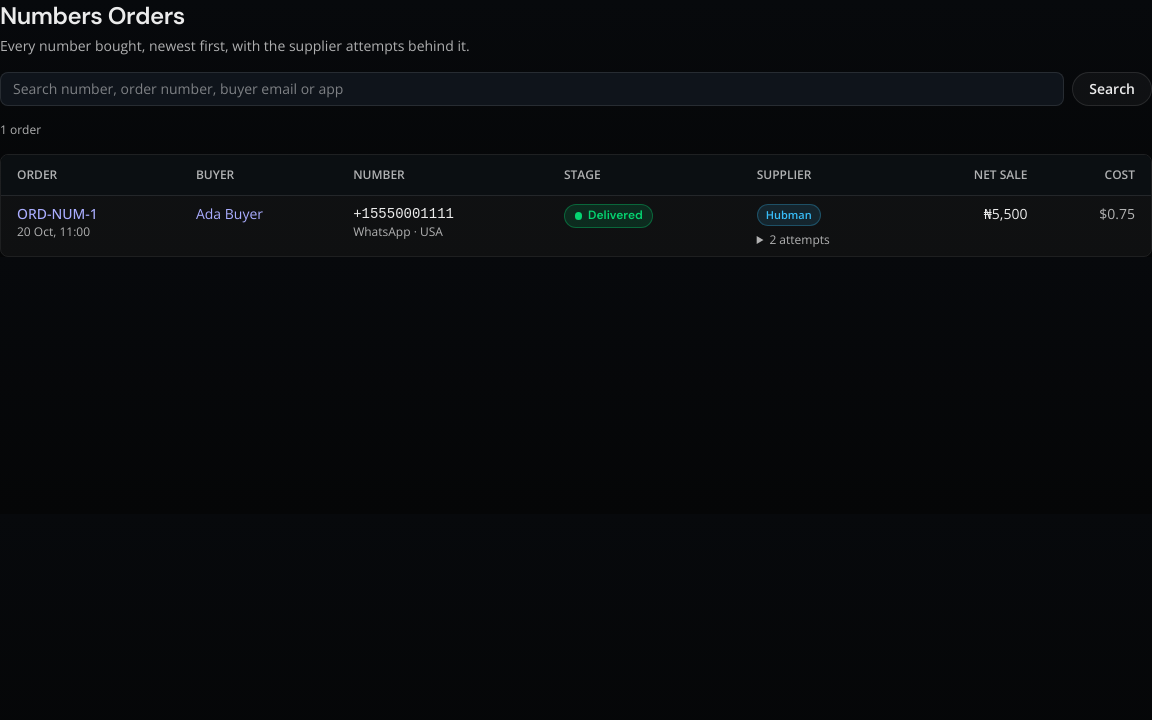
it: lists each number order with its stage, sale and full supplier attempt trail
Expected: the text "Delivered" is shown, [564,204,653,228]
Expected: the text "₦5,500" is shown, [907,196,1044,256]
Click the heading "2 attempts". click: (800, 239)
box: [769,231,830,248]
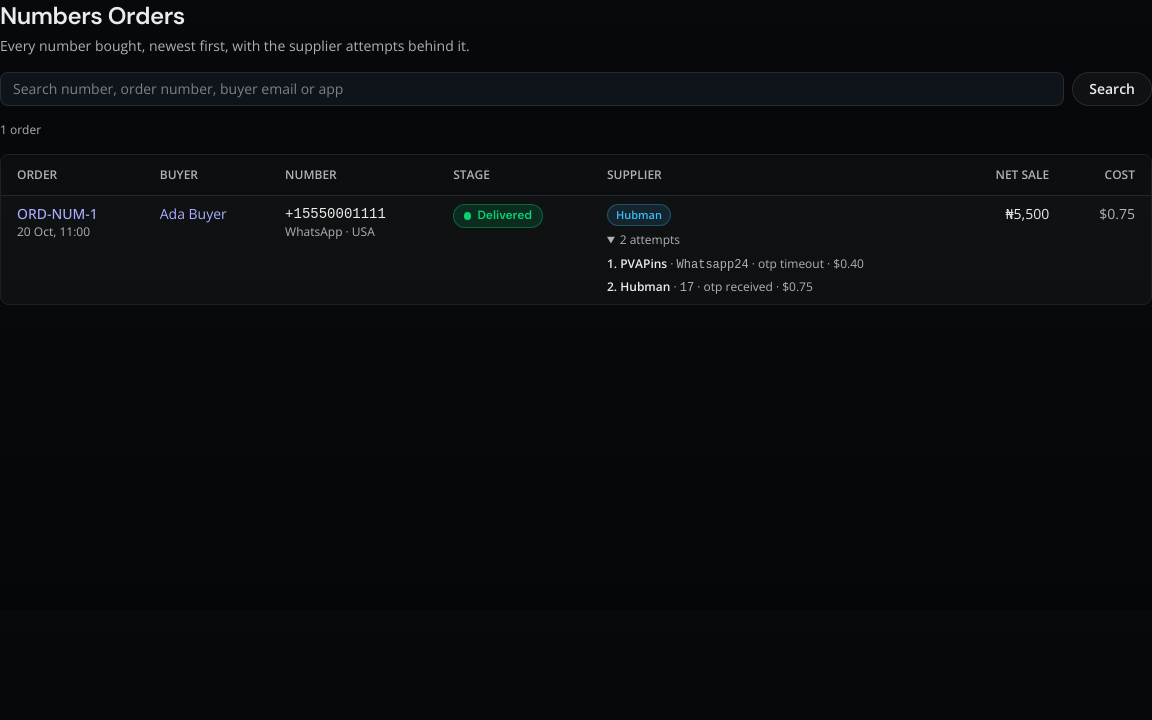
Now the text "Whatsapp24" is shown, box [677,258,749,272]
Now the list item "1. PVAPins · Whatsapp24 · otp timeout · $0.40" is shown, box [607,256,864,273]
Now the list item "2. Hubman · 17 · otp received · $0.75" is shown, box [607,278,813,295]
